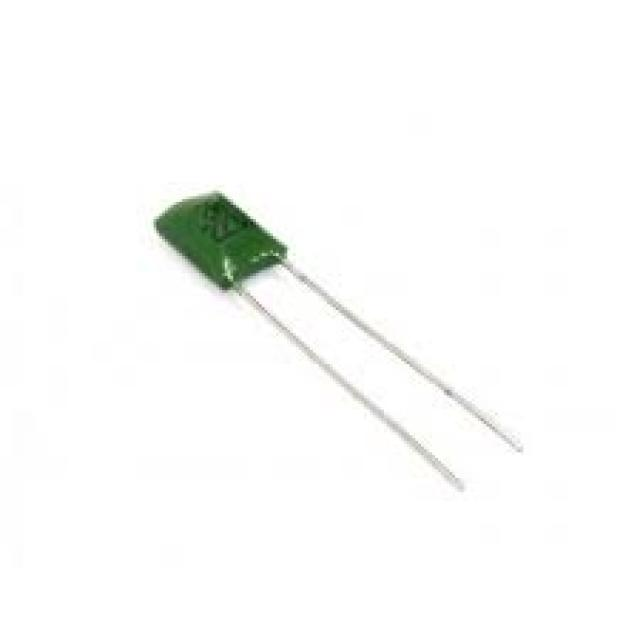Capacitor: (154, 193, 523, 495)
